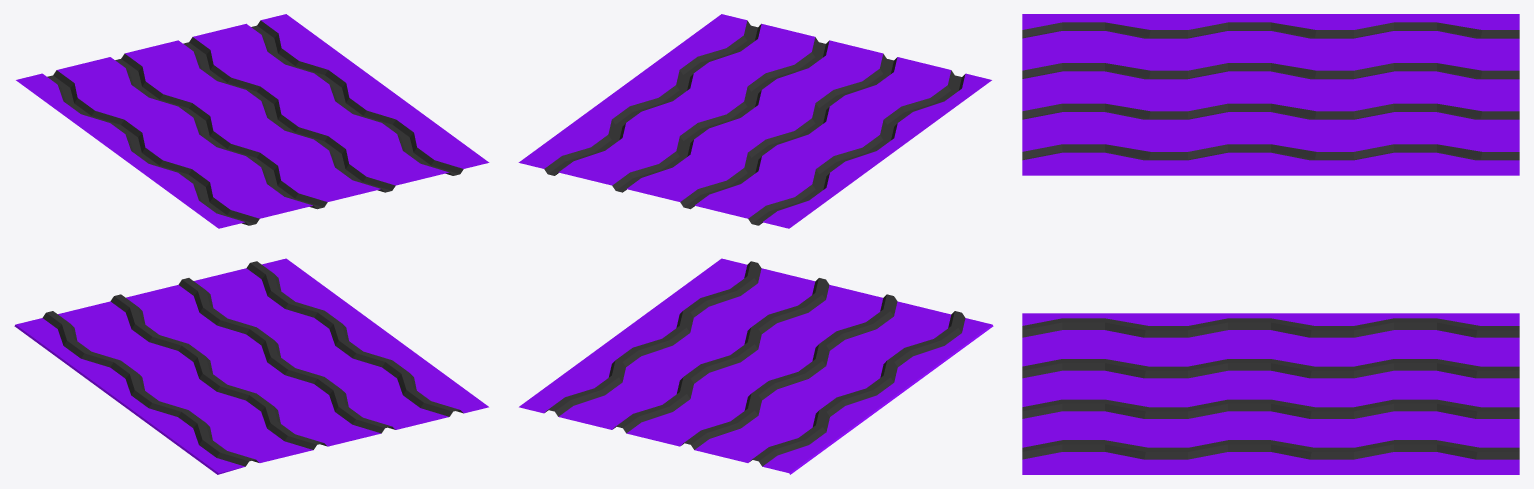
Rendered from SM_Kitchen_OvenPart.FBX.
3 views of the same model, side by side, from view 1: azimuth 30°, elevation 25°; view 2: azimuth 150°, elevation 25°; view 3: azimuth 270°, elevation 25° (orthographic). The views are drawn at different scales.
Parts seen in each view (by area): view 1: Object018; view 2: Object018; view 3: Object018.
Boxes of the visible parts, bbox=[...] form: Object018: bbox=[14, 14, 489, 474]; Object018: bbox=[518, 14, 993, 474]; Object018: bbox=[1022, 14, 1519, 474].
Size of the model in its own units: 49.07 by 63.52 by 42.4.
